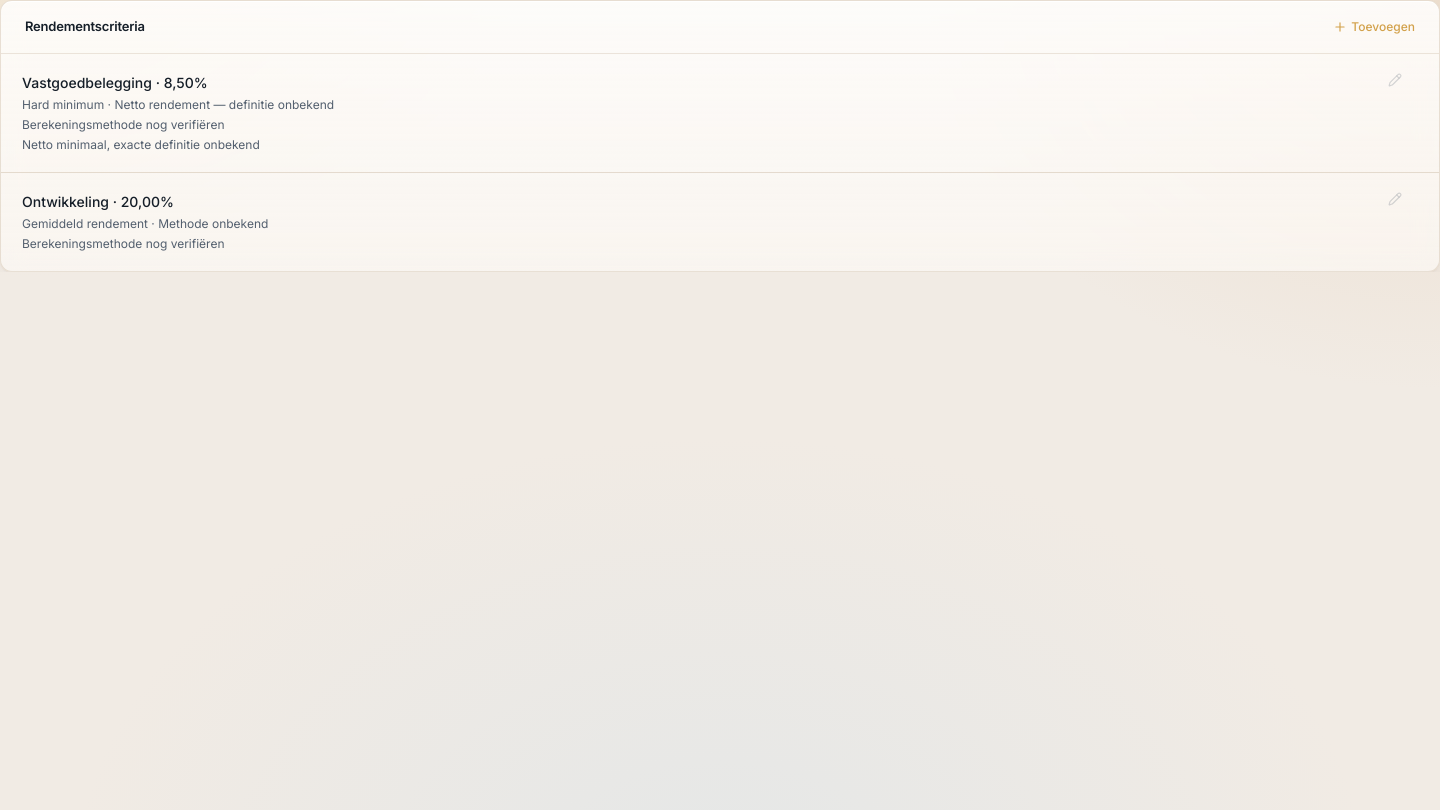
Test: Rendementscriteria: klik de criteriumwaarde rechtstreeks › bewaart de 20,00% ontwikkelgemiddelde als ander criterium, zonder automatische conversie
Click the button with aria-label "Wijzig rendementscriterium Ontwikkeling, 20,00%": (66, 201) [13,184,1411,258]
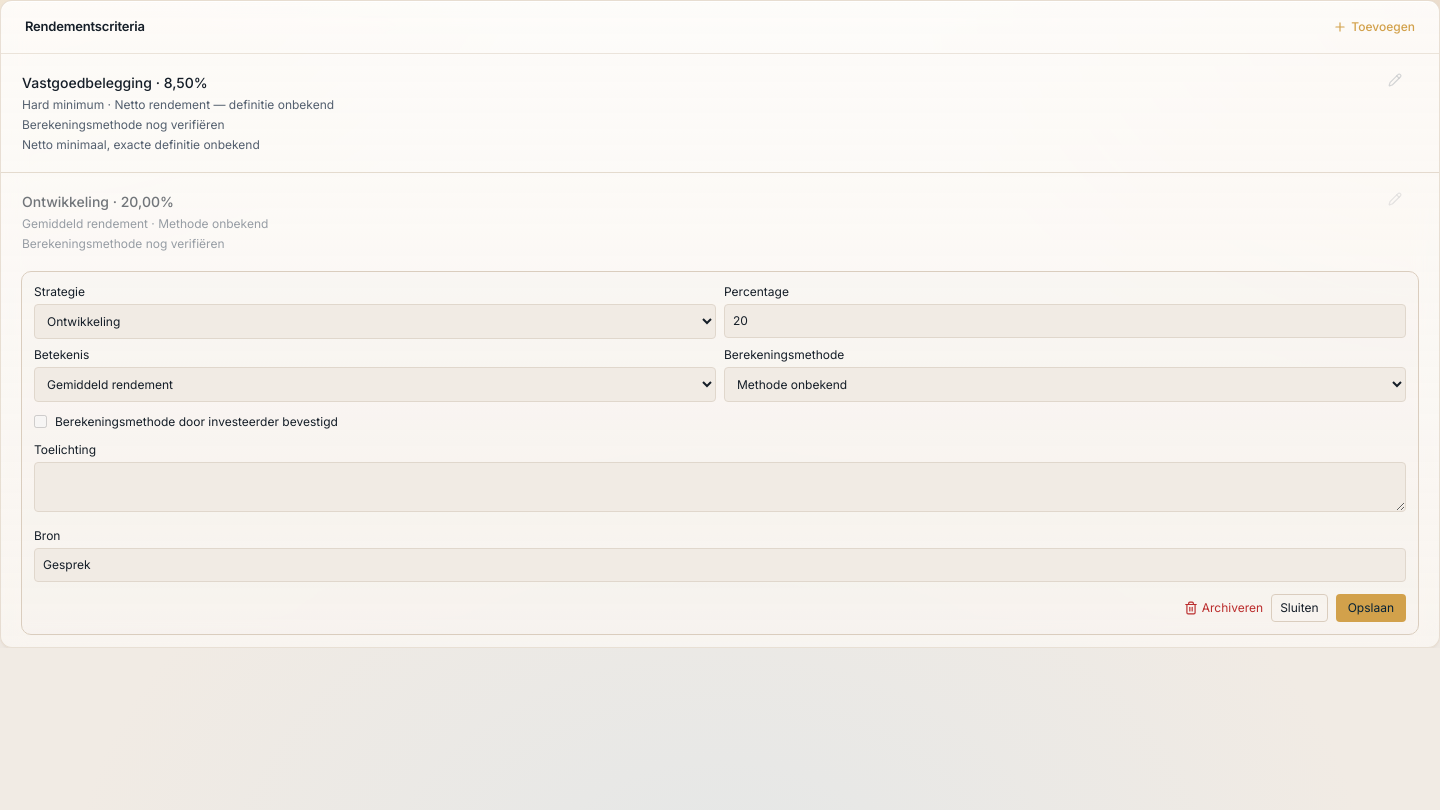
Check: the dropdown labelled "Betekenis" shows "Gemiddeld rendement", box [34,366,716,402]
Check: the dropdown labelled "Berekeningsmethode" shows "Methode onbekend", box [724,366,1406,402]
